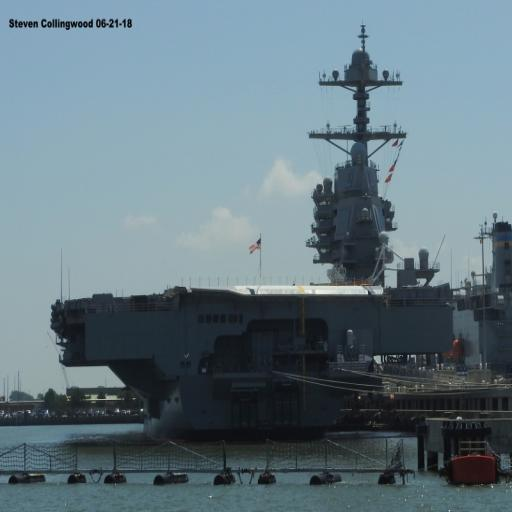Portanaves: (44, 20, 460, 448)
